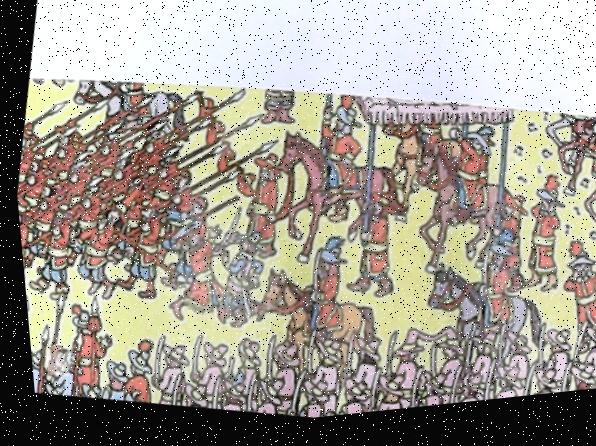waldo: (38, 343, 68, 379)
